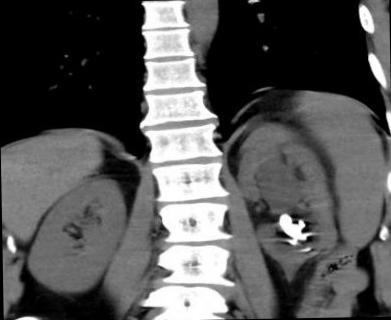Tas_Var: (276, 210, 314, 242), (289, 239, 296, 247), (302, 246, 310, 252)
